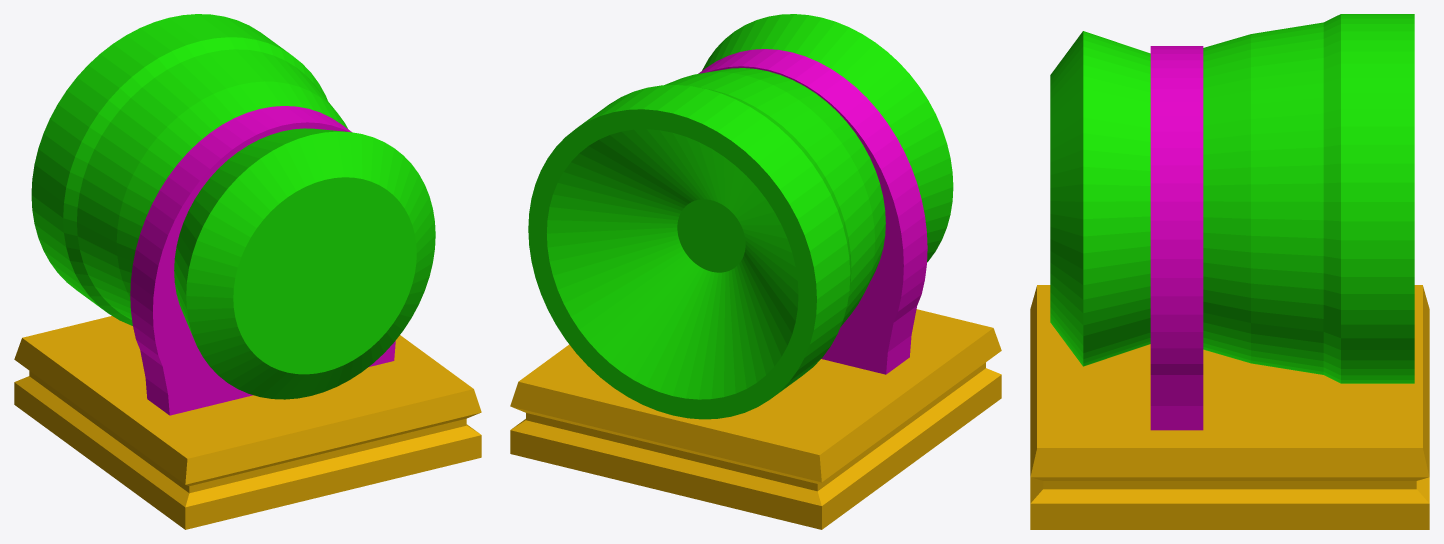
Rendered from Canon.fbx.
The picture shows the model from 3 angles, left to right: view 1: azimuth 30°, elevation 25°; view 2: azimuth 150°, elevation 25°; view 3: azimuth 270°, elevation 25°; orthographic projection. The views are drawn at different scales.
Visible parts, largest first — view 1: Canon, Base, Border; view 2: Canon, Base, Border; view 3: Canon, Base, Border.
Part boxes in pixels (left/top/right/bottom): Canon: left=31, top=14, right=435, bottom=399; Base: left=14, top=316, right=481, bottom=529; Border: left=130, top=106, right=395, bottom=415; Canon: left=528, top=14, right=953, bottom=419; Base: left=510, top=309, right=1001, bottom=529; Border: left=698, top=49, right=927, bottom=374; Canon: left=1050, top=14, right=1414, bottom=383; Base: left=1030, top=285, right=1429, bottom=529; Border: left=1150, top=46, right=1203, bottom=430.
Size of the model in its own units: 200 by 229 by 200.
